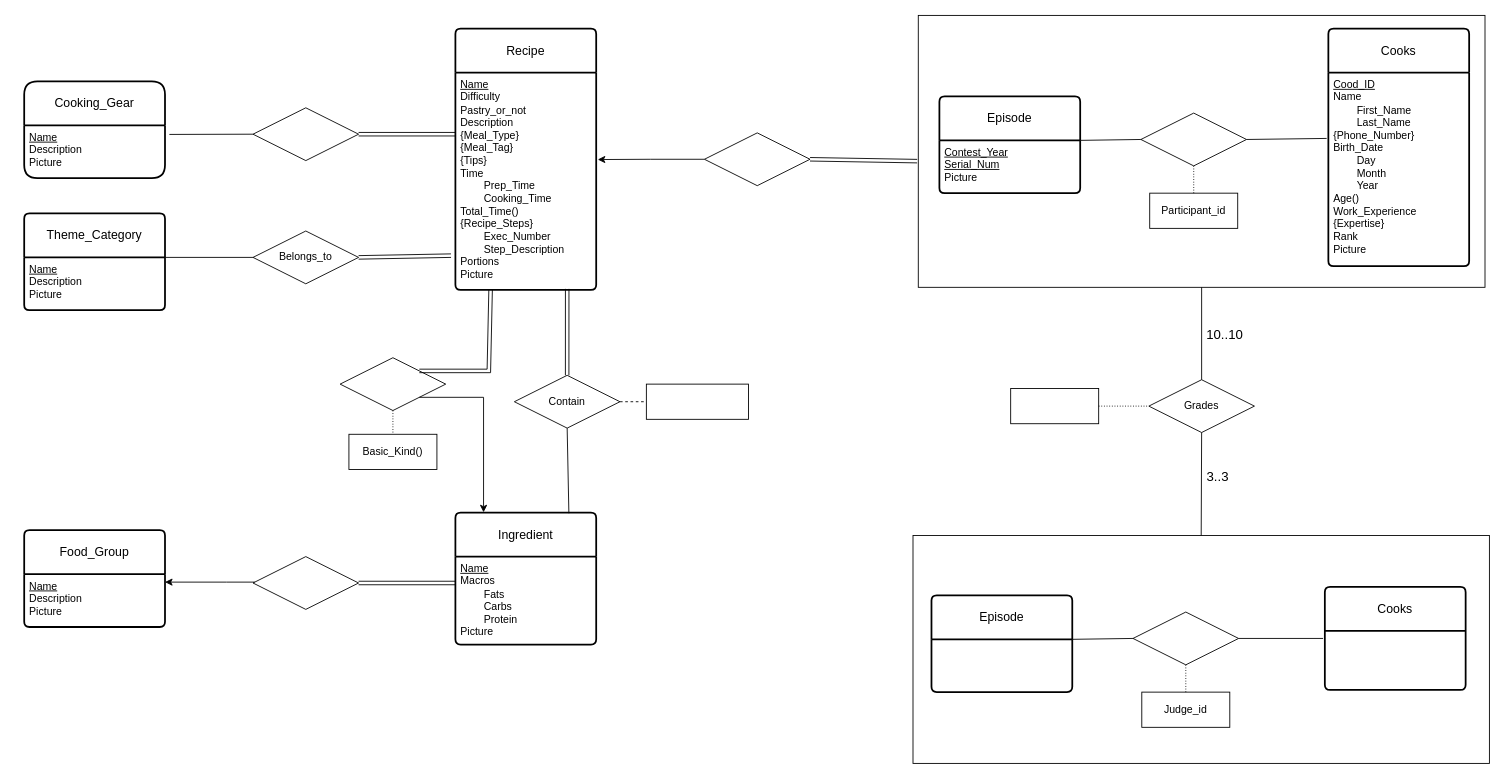
Image size: 1505x779. Some labels were removed from this diagram. Here are the shapes that lost their labels. From the top down, the centre of each, then its label:
At (x=305, y=134): "Demands".
At (x=1193, y=139): "Participant".
At (x=757, y=159): "Has_To_Cook".
At (x=392, y=384): "Basic_Ingredient".
At (x=696, y=401): "Quantity Calories_per_meal()".
At (x=1054, y=406): "Grade".
At (x=305, y=582): "Has_Group".
At (x=1185, y=638): "Judge".
